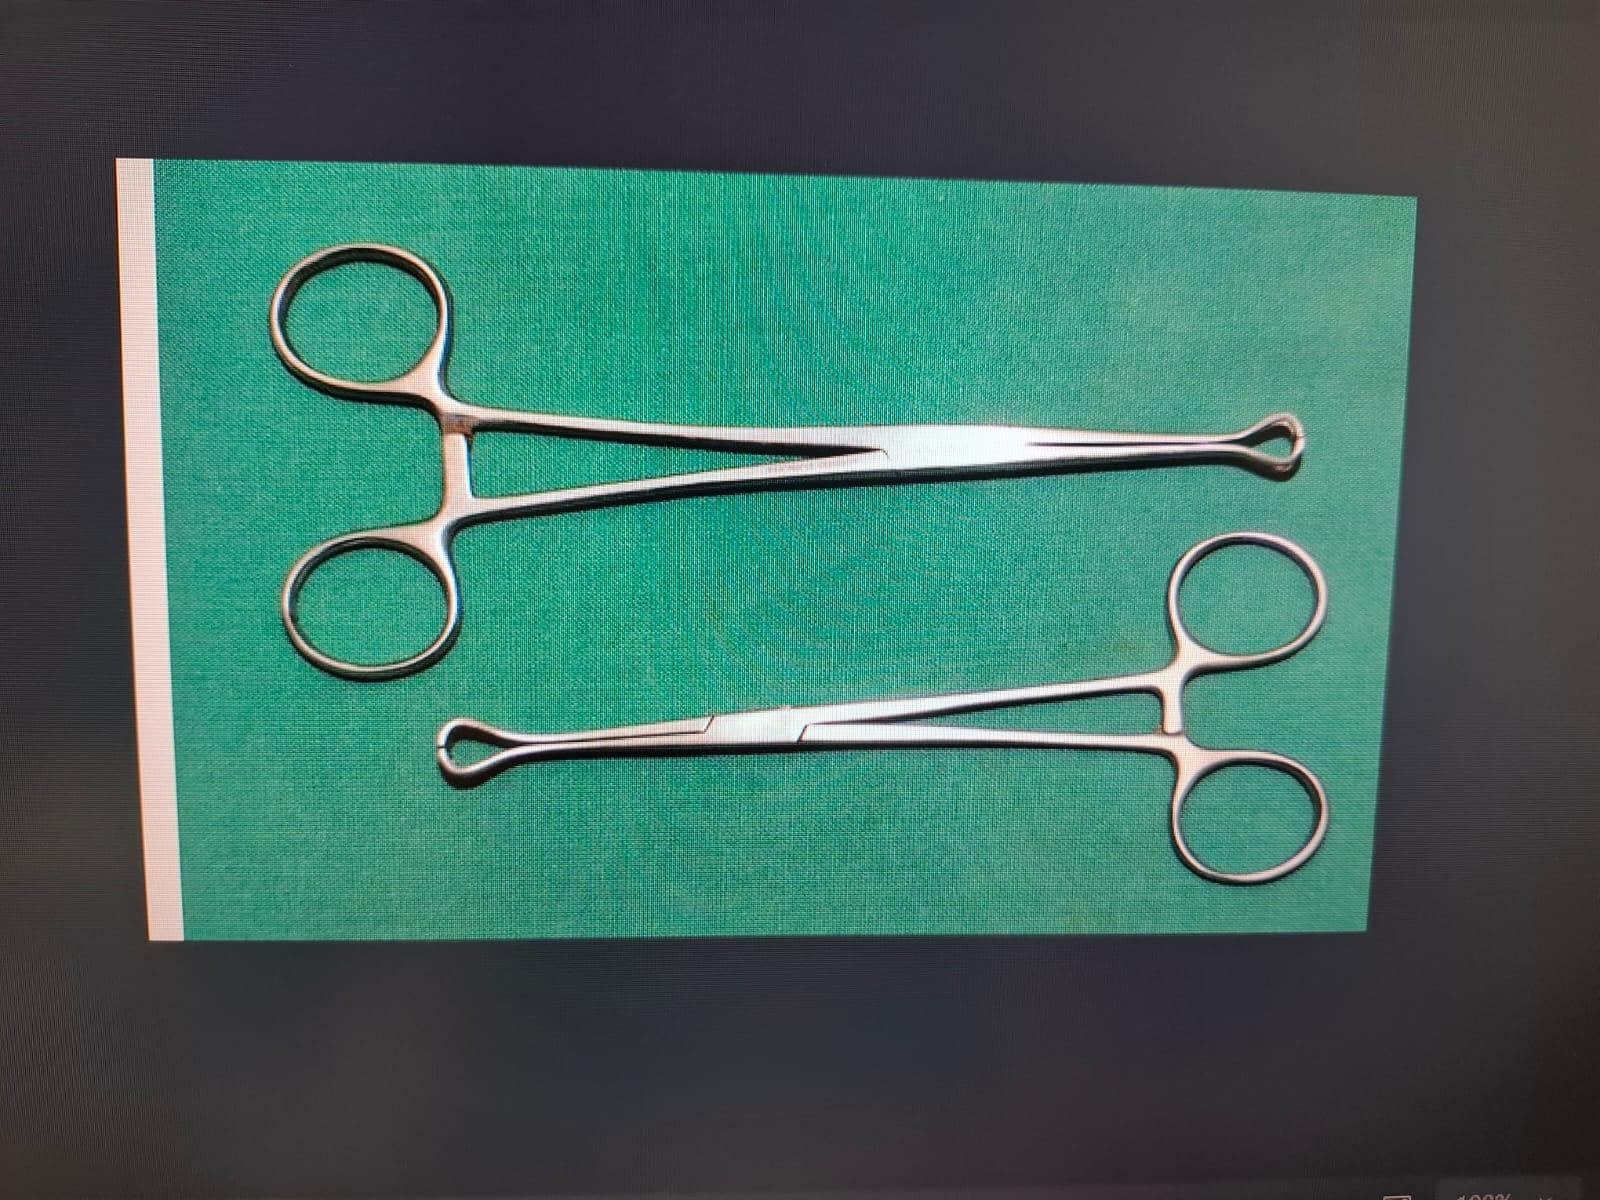Babcock Forceps: (256, 232, 1318, 694), (432, 522, 1364, 908)
